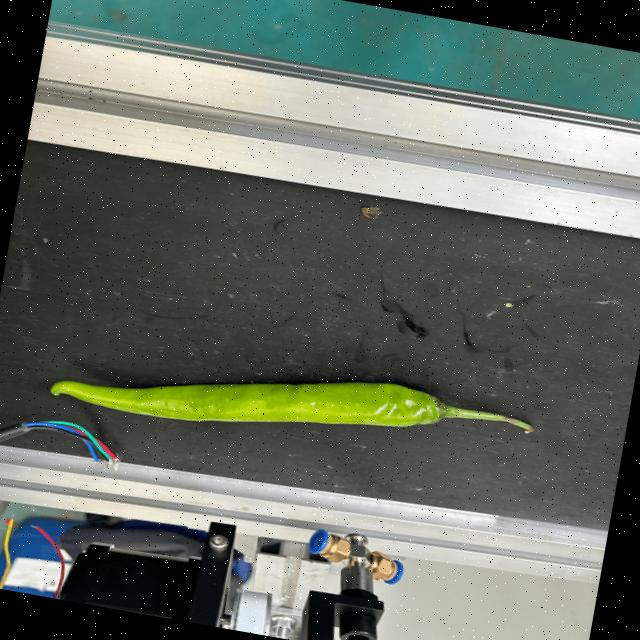chili: (48, 376, 449, 426)
